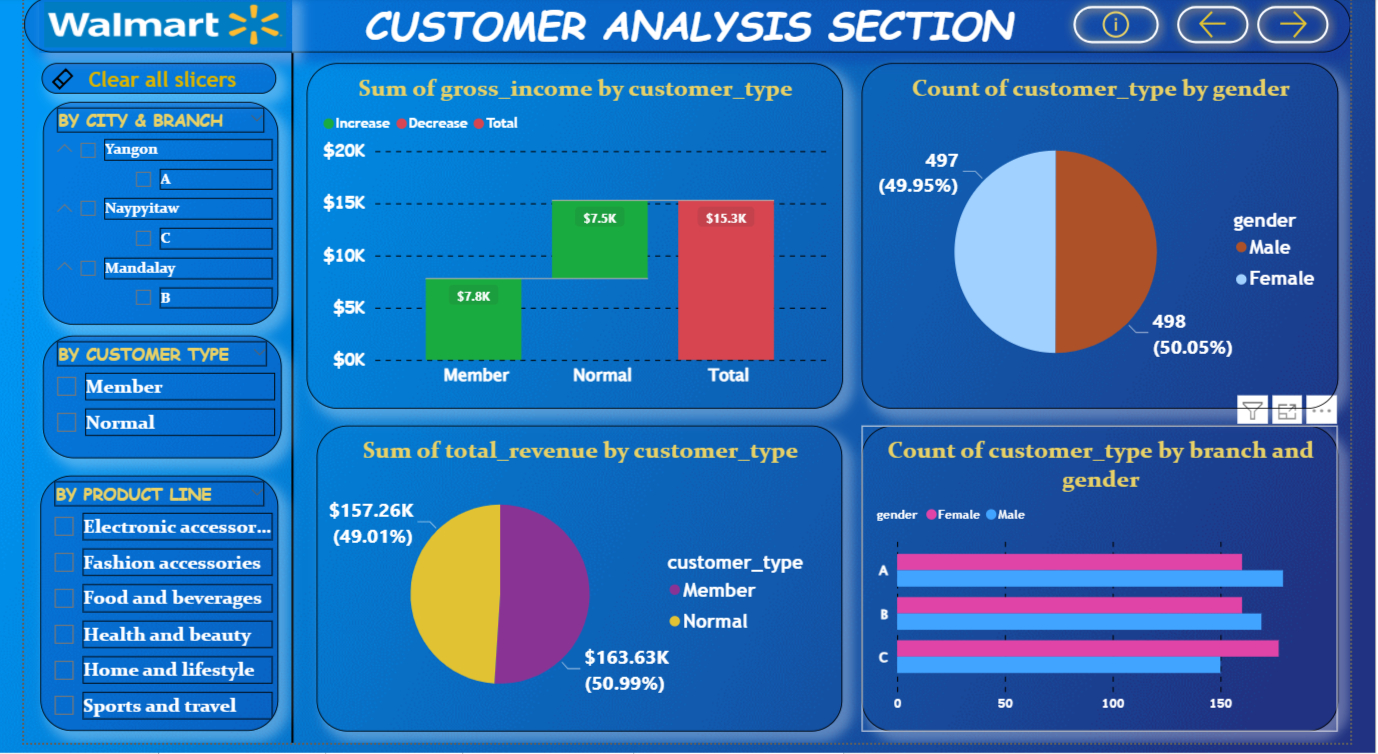

The page's visual inventory and layout, read from the dashboard file:
{"tool":"powerbi","page":{"name":"Customer Section ","canvas":[1280,720],"ordinal":2},"visuals":[{"type":"textbox","title":"CUSTOMER ANALYSIS SECTION ","box":[0,0,1280,53.8],"z":0},{"type":"image","box":[15,0,243.8,53.8],"z":1000},{"type":"shape","box":[245.7,54.3,25.7,665.7],"z":2000},{"type":"waterfallChart","fields":{"Category":["salesdatawalmart sales.customer_type"],"Y":["Sum(salesdatawalmart sales.gross_income)"]},"box":[272.5,63.8,517.5,333.8],"z":3000},{"type":"clusteredBarChart","fields":{"Category":["salesdatawalmart sales.branch"],"Series":["salesdatawalmart sales.gender"],"Y":["CountNonNull(salesdatawalmart sales.customer_type)"]},"box":[807.5,413.8,460,295],"z":4000},{"type":"pieChart","fields":{"Category":["salesdatawalmart sales.gender"],"Y":["CountNonNull(salesdatawalmart sales.customer_type)"]},"box":[807.5,63.8,460,333.8],"z":5000},{"type":"pieChart","fields":{"Category":["salesdatawalmart sales.customer_type"],"Y":["Sum(salesdatawalmart sales.total)"]},"box":[282.5,413.8,507.5,295],"z":6000},{"type":"actionButton","box":[17.1,63.6,226.1,29.3],"z":7000},{"type":"slicer","fields":{"Values":["salesdatawalmart sales.city","salesdatawalmart sales.branch"]},"box":[18.3,101.5,227.4,215.1],"z":8000},{"type":"slicer","fields":{"Values":["salesdatawalmart sales.customer_type"]},"box":[18.6,327.1,230,118.6],"z":9000},{"type":"slicer","title":"By","fields":{"Values":["salesdatawalmart sales.product_line"]},"box":[15.2,462.4,229.9,246.4],"z":10000},{"type":"actionButton","box":[1180.8,0,86.8,53.8],"z":11000},{"type":"actionButton","box":[1003.6,0,100.2,53.8],"z":12000},{"type":"actionButton","box":[1103.8,0,86.8,53.8],"z":13000}]}

Visuals, with their boxes in screenshot pixels (x1, y1, x2, y2), scaled from the page's 1280x720 canvas onto the 1378x754 screenshot:
"CUSTOMER ANALYSIS SECTION " textbox: locate(0, 0, 1377, 56)
image: locate(16, 0, 279, 56)
shape: locate(265, 57, 292, 753)
waterfallChart - salesdatawalmart sales.customer_type x Sum(salesdatawalmart sales.gross_income): locate(293, 67, 850, 416)
clusteredBarChart - salesdatawalmart sales.branch x salesdatawalmart sales.gender: locate(869, 433, 1365, 742)
pieChart - salesdatawalmart sales.gender x CountNonNull(salesdatawalmart sales.customer_type): locate(869, 67, 1365, 416)
pieChart - salesdatawalmart sales.customer_type x Sum(salesdatawalmart sales.total): locate(304, 433, 850, 742)
actionButton: locate(18, 67, 262, 97)
slicer - salesdatawalmart sales.city x salesdatawalmart sales.branch: locate(20, 106, 265, 332)
slicer - salesdatawalmart sales.customer_type: locate(20, 343, 268, 467)
"By" slicer: locate(16, 484, 264, 742)
actionButton: locate(1271, 0, 1365, 56)
actionButton: locate(1080, 0, 1188, 56)
actionButton: locate(1188, 0, 1282, 56)
